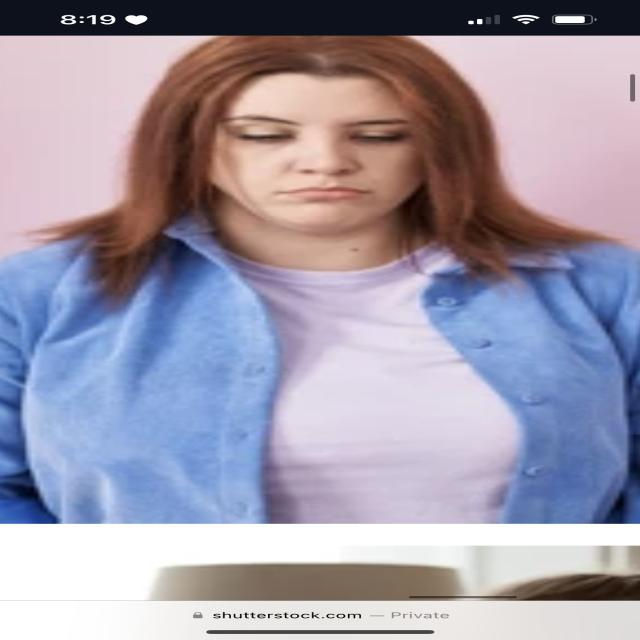natural: (184, 80, 432, 232)
